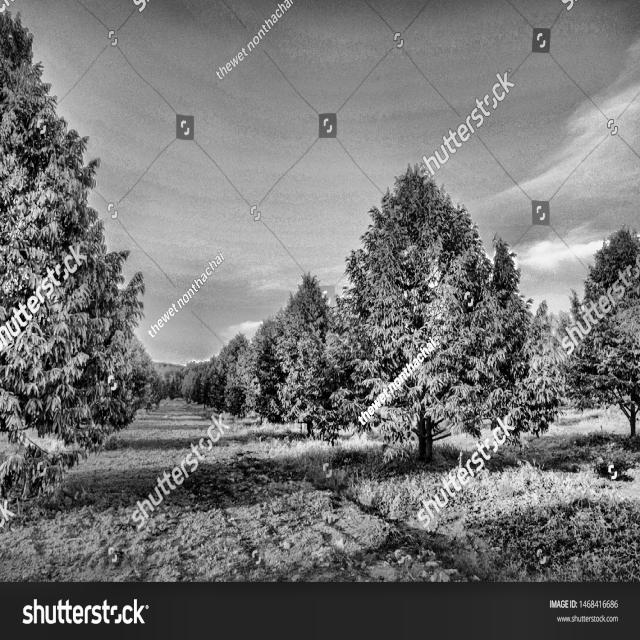arvore: (411, 365, 438, 473), (621, 372, 640, 445), (302, 397, 317, 441)
